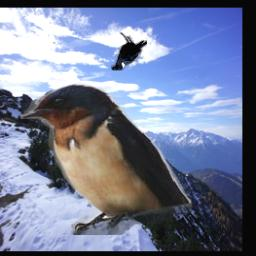Crow: (112, 32, 148, 71)
Swallow: (20, 83, 192, 236)
